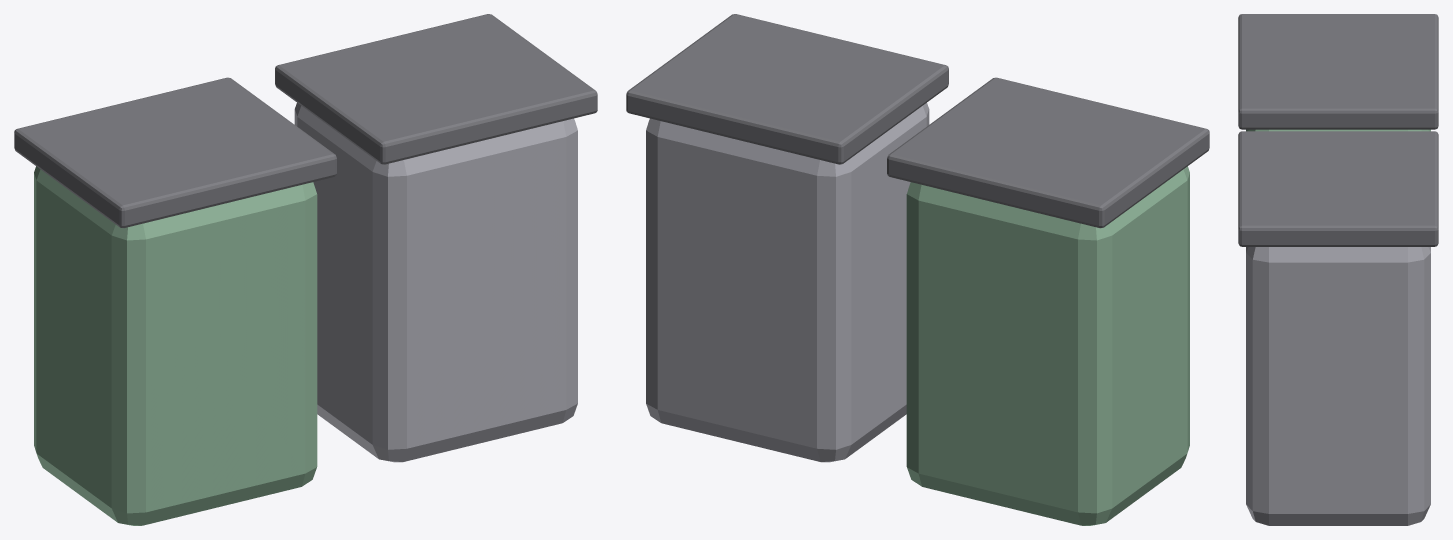
File: classroom_trash.glb
3 views of the same model, side by side, from view 1: azimuth 30°, elevation 25°; view 2: azimuth 150°, elevation 25°; view 3: azimuth 270°, elevation 25° (orthographic). The views are drawn at different scales.
Visible parts, largest first — view 1: can0, can1, can_rim0, can_rim1; view 2: can0, can1, can_rim0, can_rim1; view 3: can1, can_rim0, can_rim1, can0.
Boxes of the visible parts, x1,y1,x2,y2 form: can0: (34,166,317,525); can1: (294,103,577,462); can_rim0: (14,77,336,228); can_rim1: (275,14,597,164); can0: (906,166,1189,525); can1: (646,103,929,462); can_rim0: (887,77,1209,228); can_rim1: (626,14,948,164); can1: (1246,247,1430,525); can_rim0: (1238,14,1438,129); can_rim1: (1238,131,1438,246); can0: (1246,129,1430,131).
Size of the model in its own units: 0.66 by 0.445 by 0.26.
